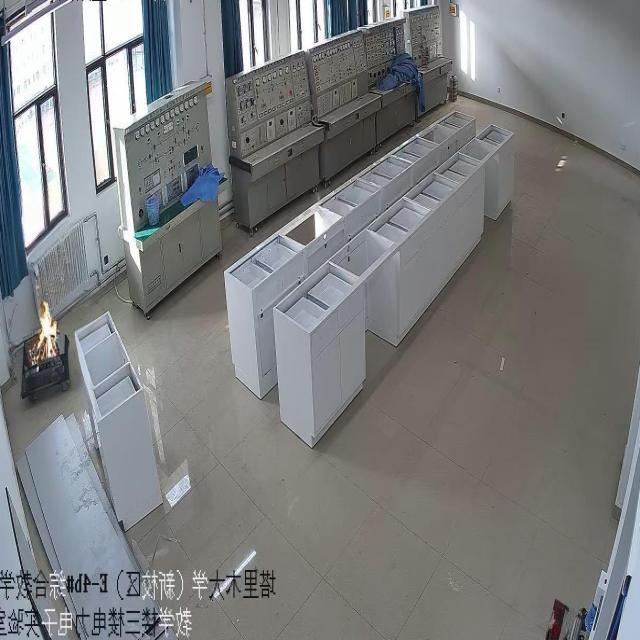smoke: (30, 298, 60, 364)
